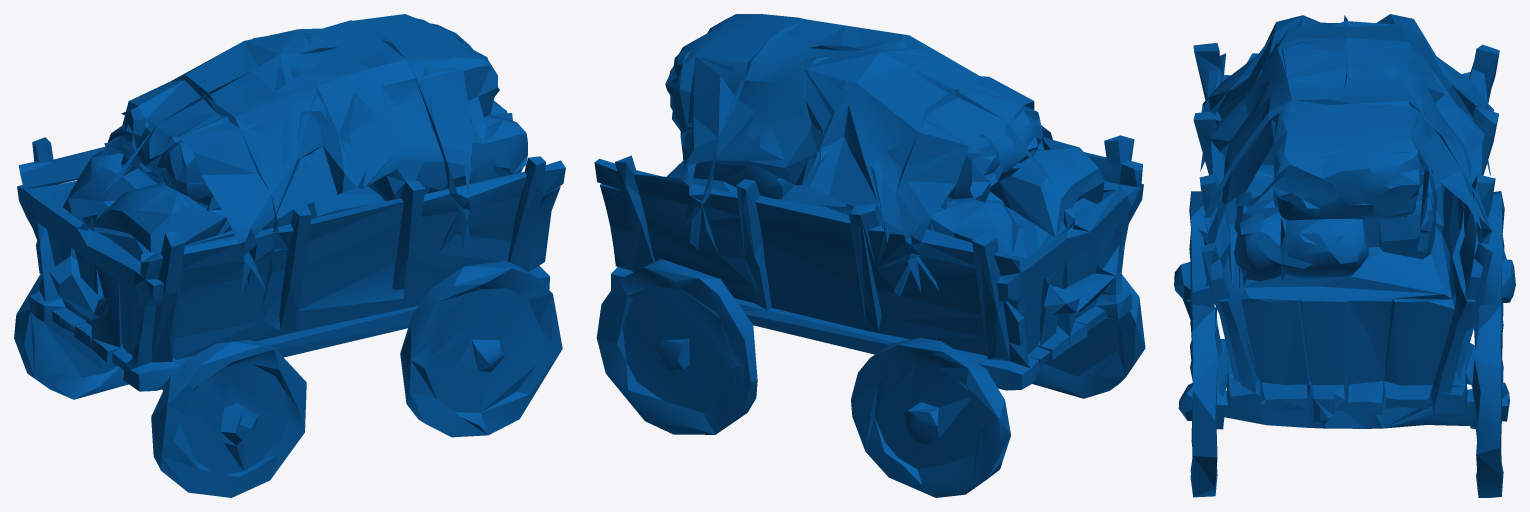
The model's file is hay_wagon.glb.
3 views of the same model, side by side, from view 1: azimuth 30°, elevation 25°; view 2: azimuth 150°, elevation 25°; view 3: azimuth 270°, elevation 25° (orthographic). The views are drawn at different scales.
Parts seen in each view (by area): view 1: hay_wagon; view 2: hay_wagon; view 3: hay_wagon.
Part boxes in pixels (bbox=[...]): hay_wagon: bbox=[14, 14, 565, 497]; hay_wagon: bbox=[594, 14, 1145, 497]; hay_wagon: bbox=[1174, 14, 1515, 497].
Bounding box in the file's own units: 3.47 × 2.6 × 2.11.
1 material, 1 textured.
